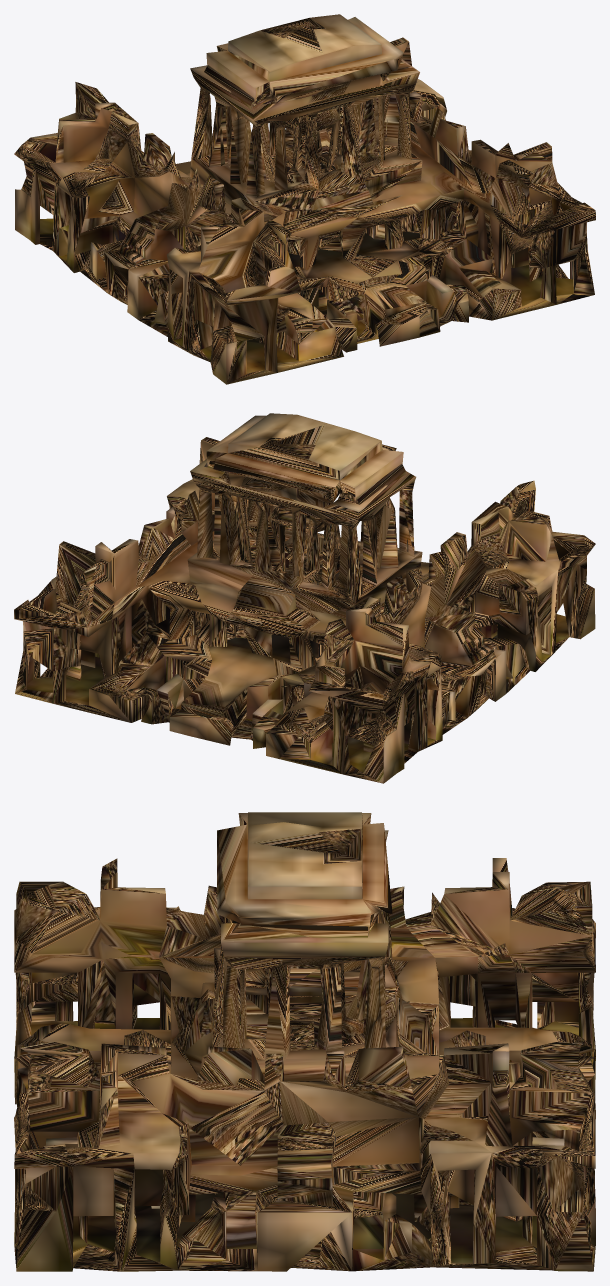
Rendered from A_very_large_ancient.glb.
3 views of the same model, one above another, from view 1: azimuth 30°, elevation 25°; view 2: azimuth 150°, elevation 25°; view 3: azimuth 270°, elevation 25° (orthographic). The views are drawn at different scales.
Parts seen in each view (by area): view 1: A_very_large_ancient; view 2: A_very_large_ancient; view 3: A_very_large_ancient.
Boxes of the visible parts, box(x1,y1,x2,y2) form: A_very_large_ancient: box(14, 14, 595, 384); A_very_large_ancient: box(14, 413, 595, 783); A_very_large_ancient: box(14, 812, 595, 1271).
Size of the model in its own units: 1.9 by 1.11 by 1.9.
1 material, 1 textured.
